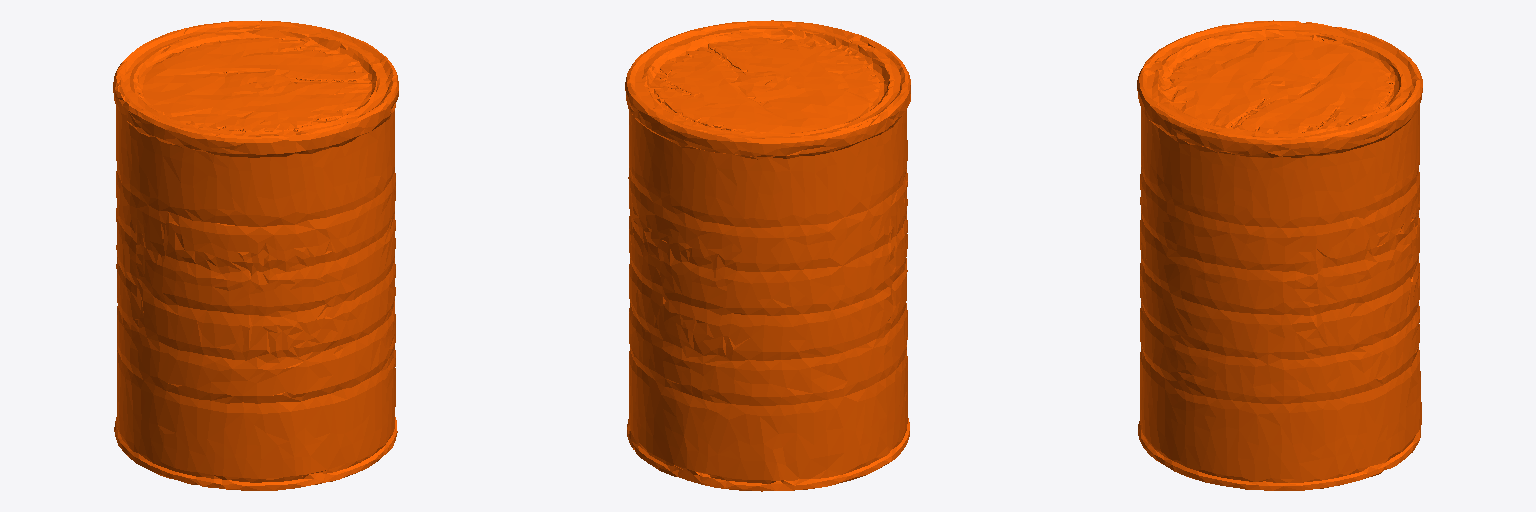
URDF robot description (002_master_chef_can):
<?xml version="1.0" ?>
<robot name="002_master_chef_can">
   <material name="obj_color">
      <color rgba="1.0 0.423529411765 0.0392156862745 1.0"/>
   </material>
   <link name="top">
      <inertial>
         <origin rpy="0.002588671819689161 0.004431738819551724 0.00444158538693493" xyz="-0.009864932588811612 6.409423289141313e-05 -0.03146477234411978"/>
         <mass value="1.250348201356027"/> 
         <inertia ixx="0.004441184045349948" ixy="1.938857829724862e-06" ixz="-2.754274384114168e-06" iyy="0.004432135578092973" iyz="9.456425583774667e-07" izz="0.002588676402732893"/>
      </inertial>
      <visual>
         <origin rpy="0 0 0" xyz="0 0 0"/>
         <geometry>
            <mesh filename="top_watertight_tiny.stl" scale="1 1 1"/>
         </geometry>
         <material name="obj_color"/>
      </visual>
      <collision>
         <origin rpy="0 0 0" xyz="0 0 0"/>
         <geometry>
            <mesh filename="top_watertight_tiny.obj" scale="1 1 1"/>
         </geometry>
      </collision>
   </link>
   <link name="bottom">
      <inertial>
         <origin rpy="1.633333333199431e-08 1.633333333199431e-08 1.633333333362855e-08" xyz="0.3464080000000008 0.3464080000000008 0.3464080000000008"/>
         <mass value="0.0009800000000000017"/>
         <inertia ixx="1.633333333253906e-08" ixy="5.447480642029219e-19" ixz="5.447480642029219e-19" iyy="1.633333333253906e-08" iyz="5.447480642029219e-19" izz="1.633333333253906e-08"/>
      </inertial>
      <visual>
         <origin rpy="0 0 0" xyz="0 0 0"/>
         <geometry>
            <mesh filename="bottom_watertight_tiny.stl" scale="1 1 1"/>
         </geometry>
         <material name="obj_color"/>
      </visual>
   </link>
   <joint name="rotation" type="revolute">
      <origin xyz="0 0 0"/>
      <axis xyz="0 0 -1"/>
      <parent link="bottom"/>
      <child link="top"/>
      <dynamics damping="1.0" friction="1.0"/>
      <limit effort="0.1" velocity="0.1" lower="0" upper="0.001"/>
   </joint>
</robot>

--- Facts derived from the render (not from the file) ---
The picture shows the robot from 3 angles, left to right: view 1: azimuth 30°, elevation 25°; view 2: azimuth 150°, elevation 25°; view 3: azimuth 270°, elevation 25°; orthographic projection.
Robot: 002_master_chef_can — 2 links, 1 joints (1 revolute); root link bottom; default pose: all joints at 0.
Links seen in each view (by area): view 1: top; view 2: top; view 3: top.
Link boxes in pixels (left/top/right/bottom): top: left=113, top=20, right=398, bottom=490; top: left=625, top=20, right=910, bottom=491; top: left=1137, top=20, right=1422, bottom=490.
Bounding box of the posed robot: 0.1025 × 0.1024 × 0.1402 m (x, y, z).
Meshes: 2 distinct files referenced, 1 mesh visuals loaded (1 binary STL); not drawn: 1 (reference not matched to a file when rendering).
